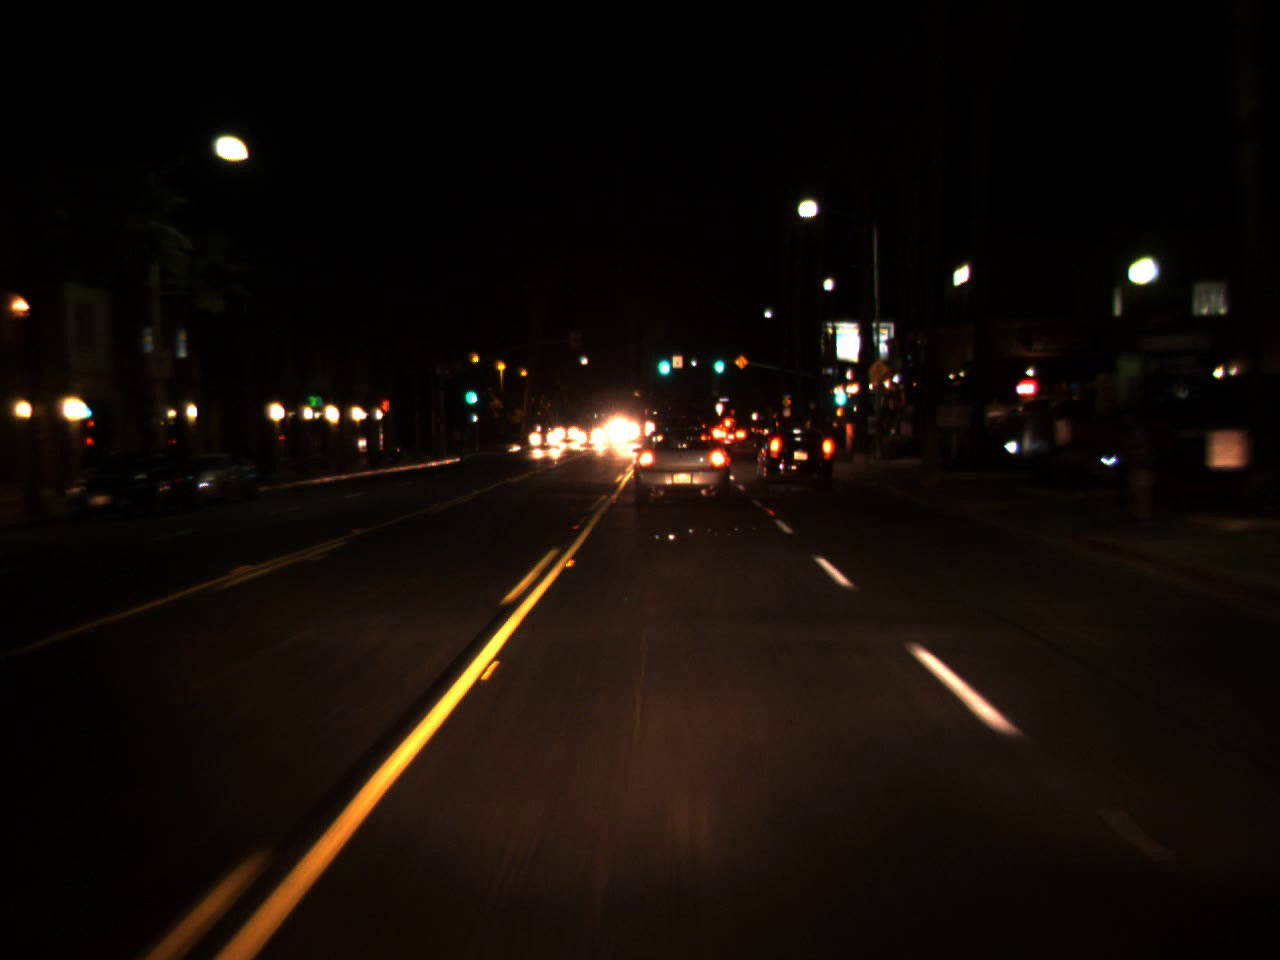go: (653, 341, 672, 380), (829, 372, 848, 411), (462, 374, 476, 410), (709, 348, 725, 375)
